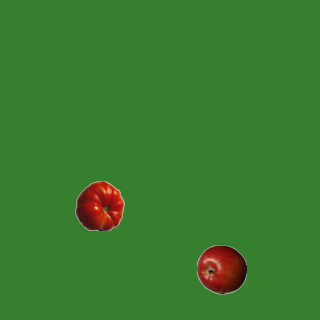Apple Braeburn: (196, 244, 246, 294)
Tomato 3: (74, 180, 124, 230)
